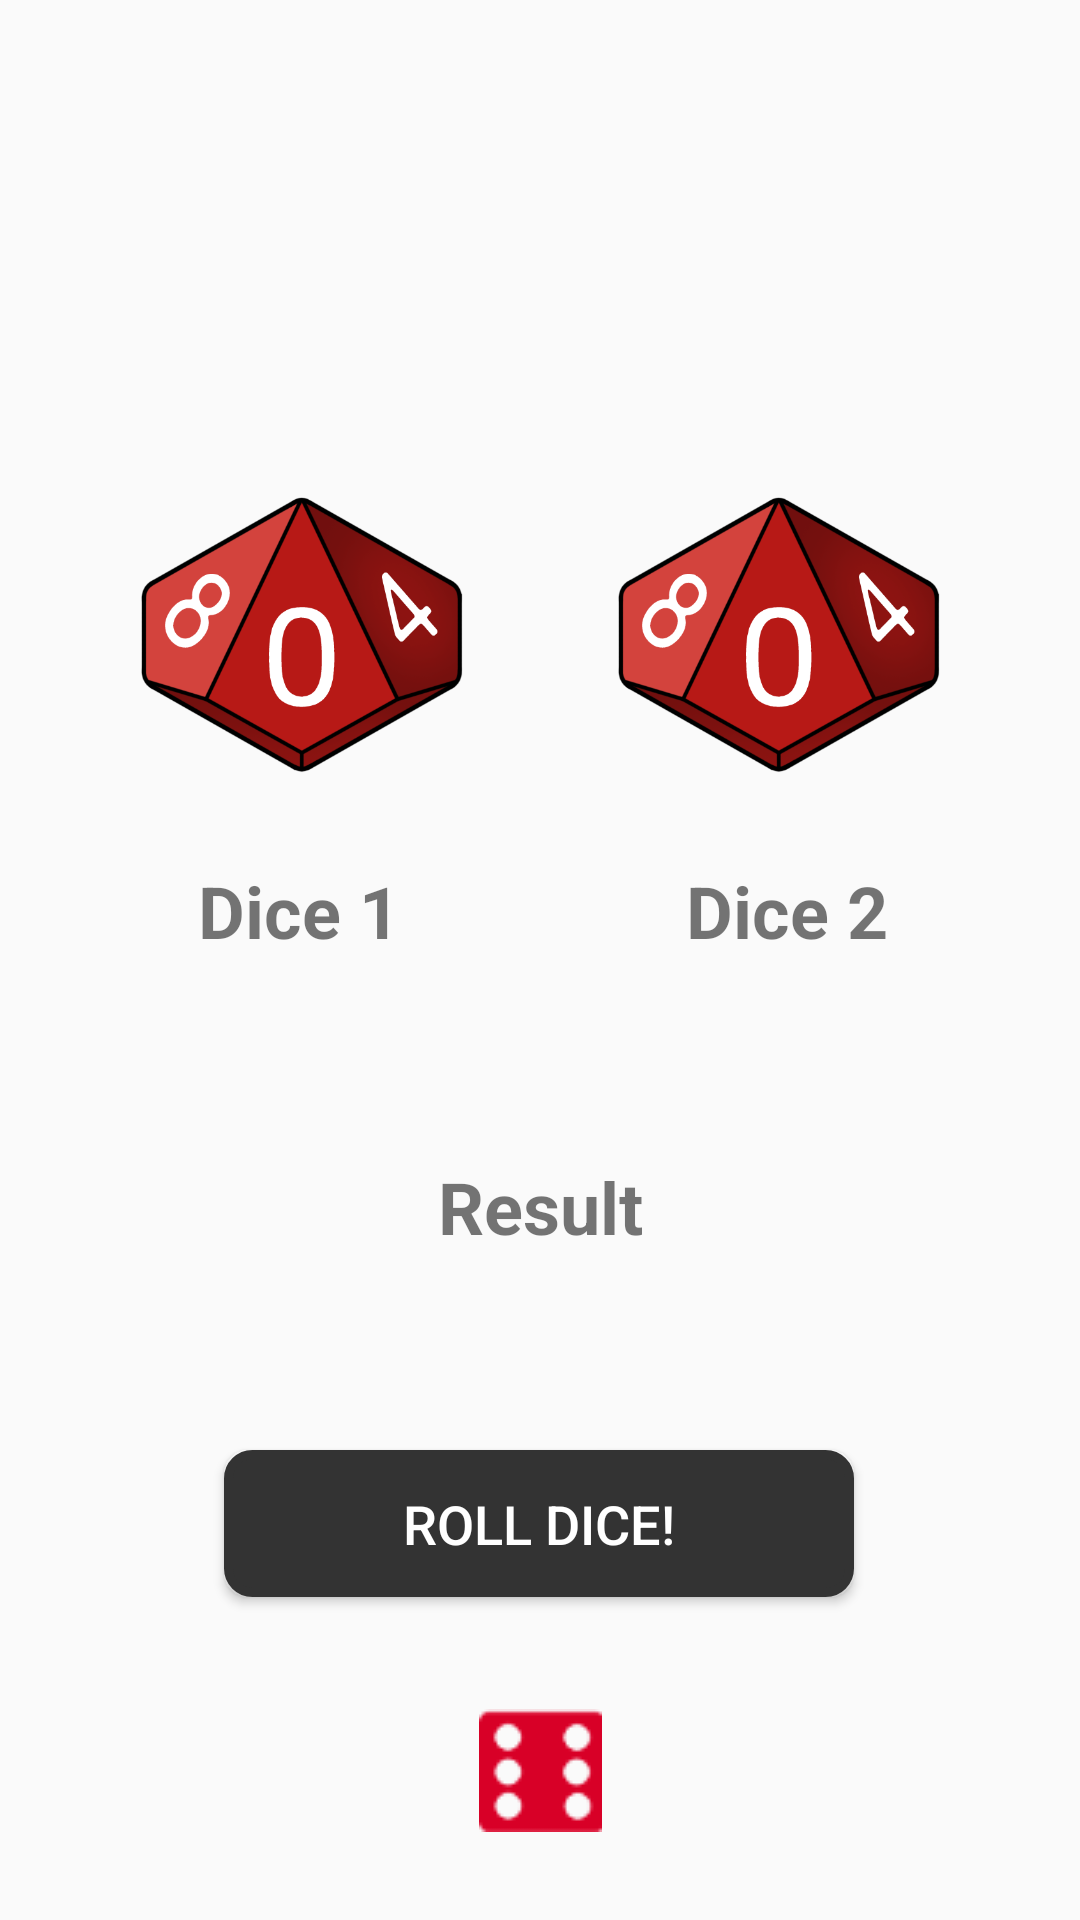

Icons on this 1080*1920 Android screen, each with the point to tap as [x,y]:
six: [540,1770]
